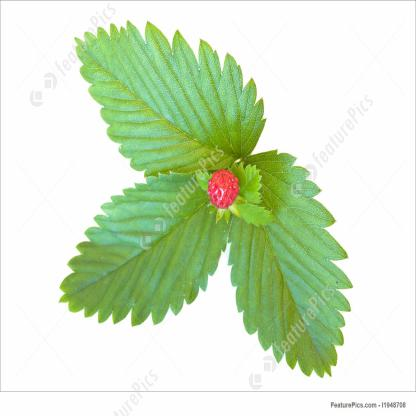strawberry leaf: (73, 18, 267, 184), (223, 149, 355, 379), (56, 167, 233, 328)
